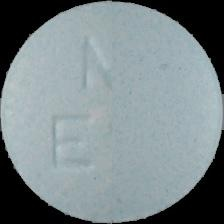0378-1053: (0, 0, 224, 224)
